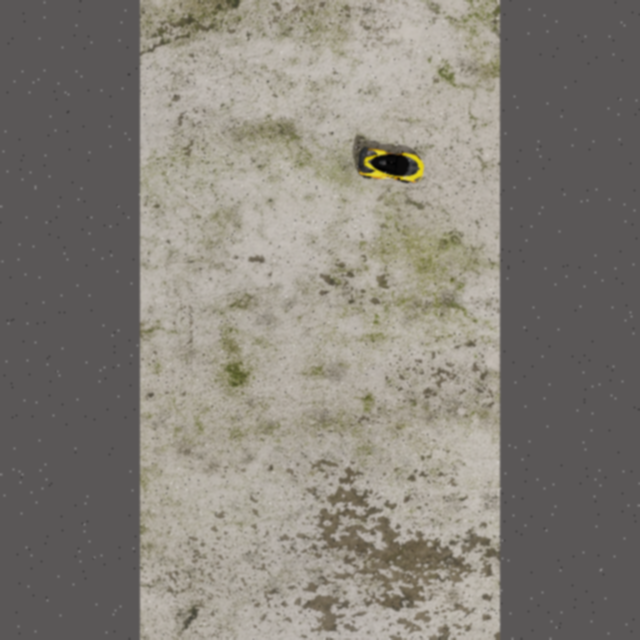car: (355, 144, 427, 186)
